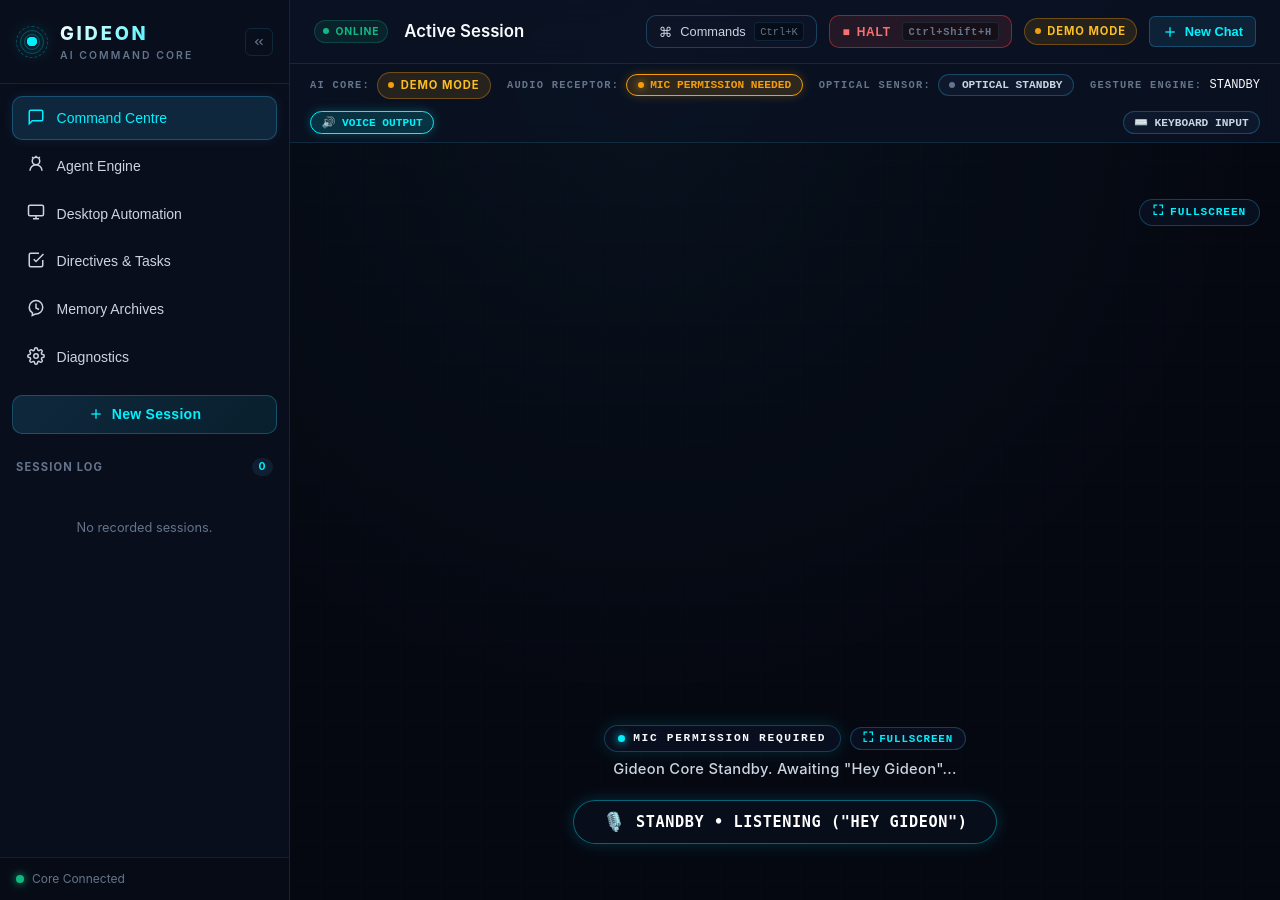
Scenario: navigates to Diagnostics and renders Phase 2 provider status
Click the button "Diagnostics" at (93, 357), box 12,335 -> 277,379
(page scrolled)
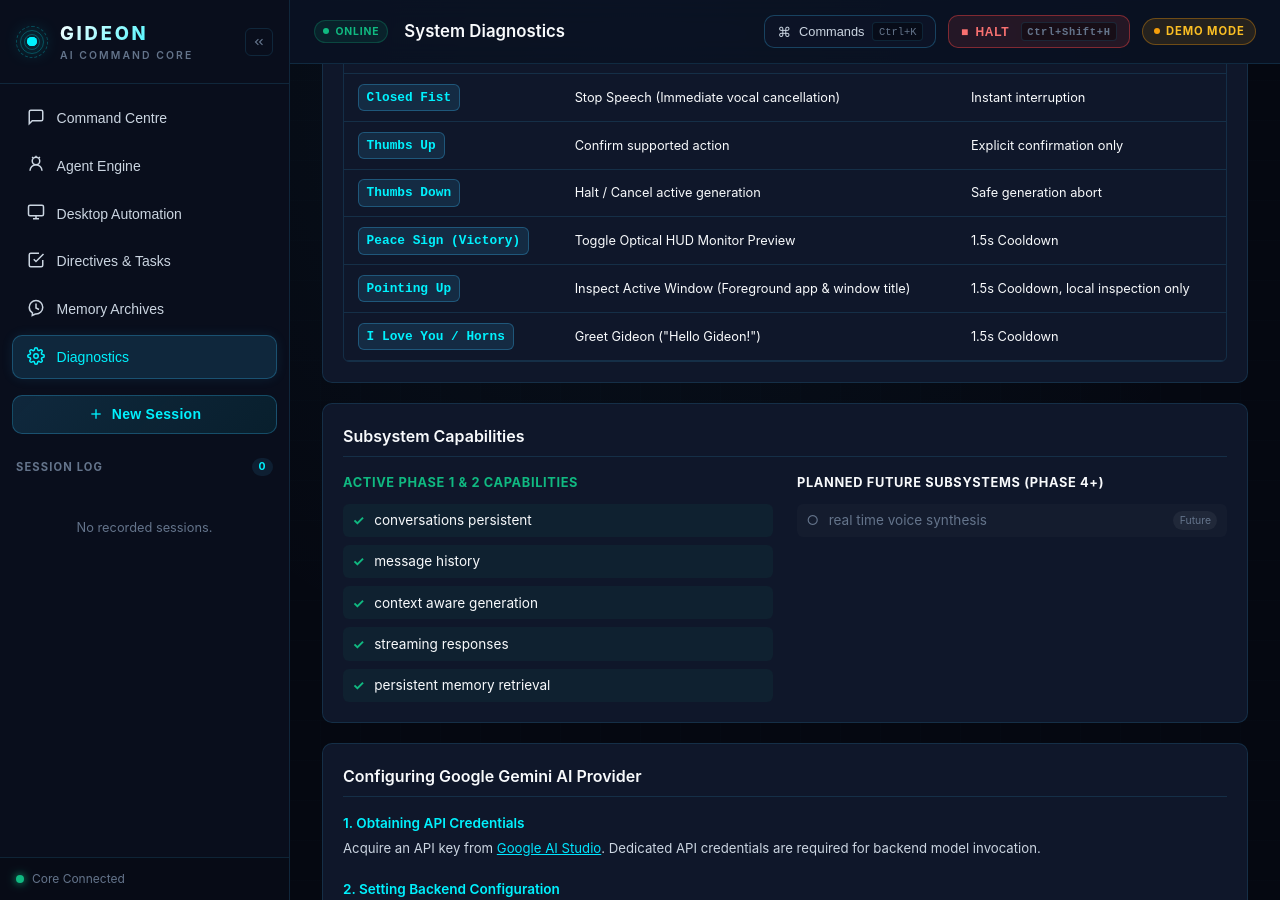
Now the heading "Active Phase 1 & 2 Capabilities" is shown, box 343,475 -> 578,490
